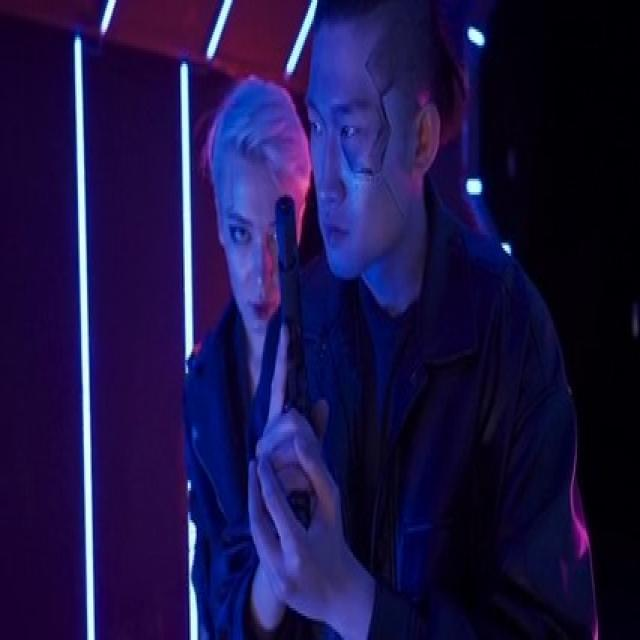Gun_Holder: (245, 180, 355, 583)
Jacket_Wearer: (294, 224, 604, 640)
Person: (287, 0, 595, 640), (178, 85, 328, 640)
